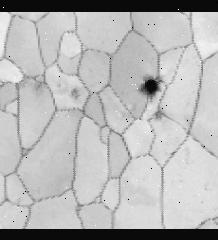good_void: (136, 73, 166, 102), (153, 107, 165, 123), (68, 87, 81, 100), (33, 81, 44, 93), (204, 182, 210, 191), (56, 81, 63, 88)
